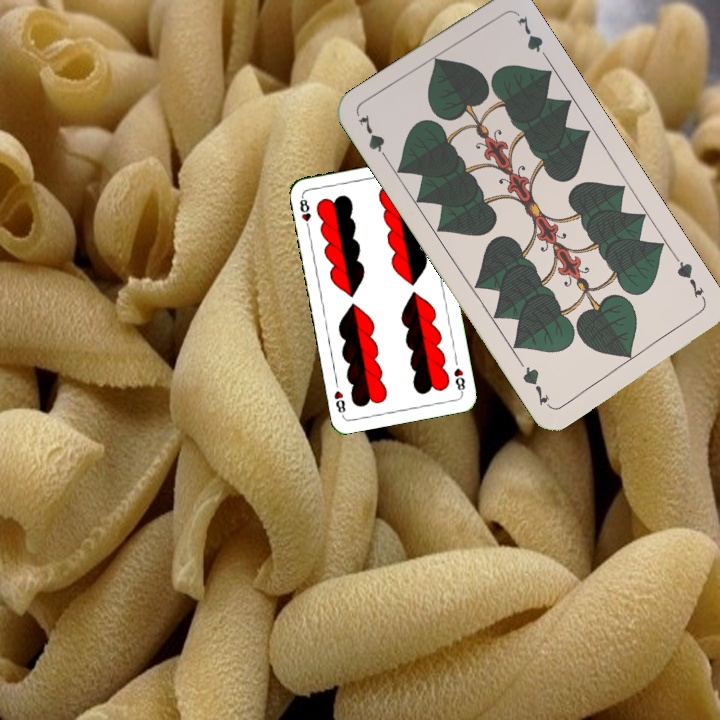G7: (354, 110, 393, 166), (670, 253, 709, 306)
H8: (296, 192, 313, 233), (450, 364, 468, 396)
